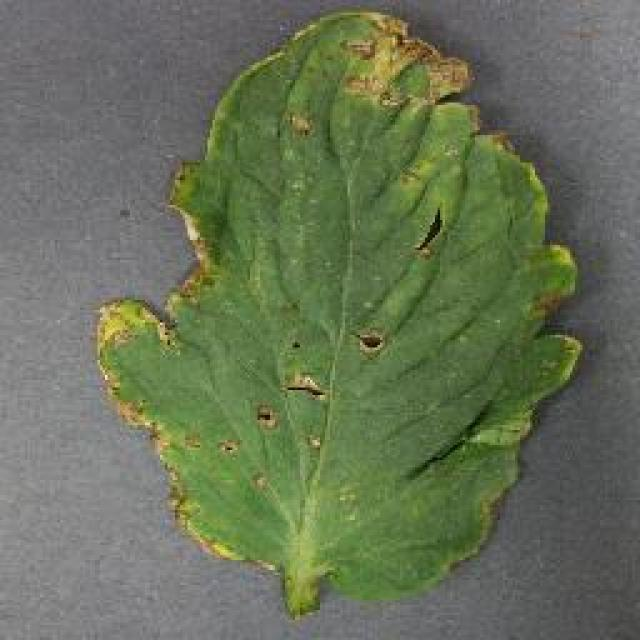Tomato bacterial spot leaf: (105, 15, 583, 610)
